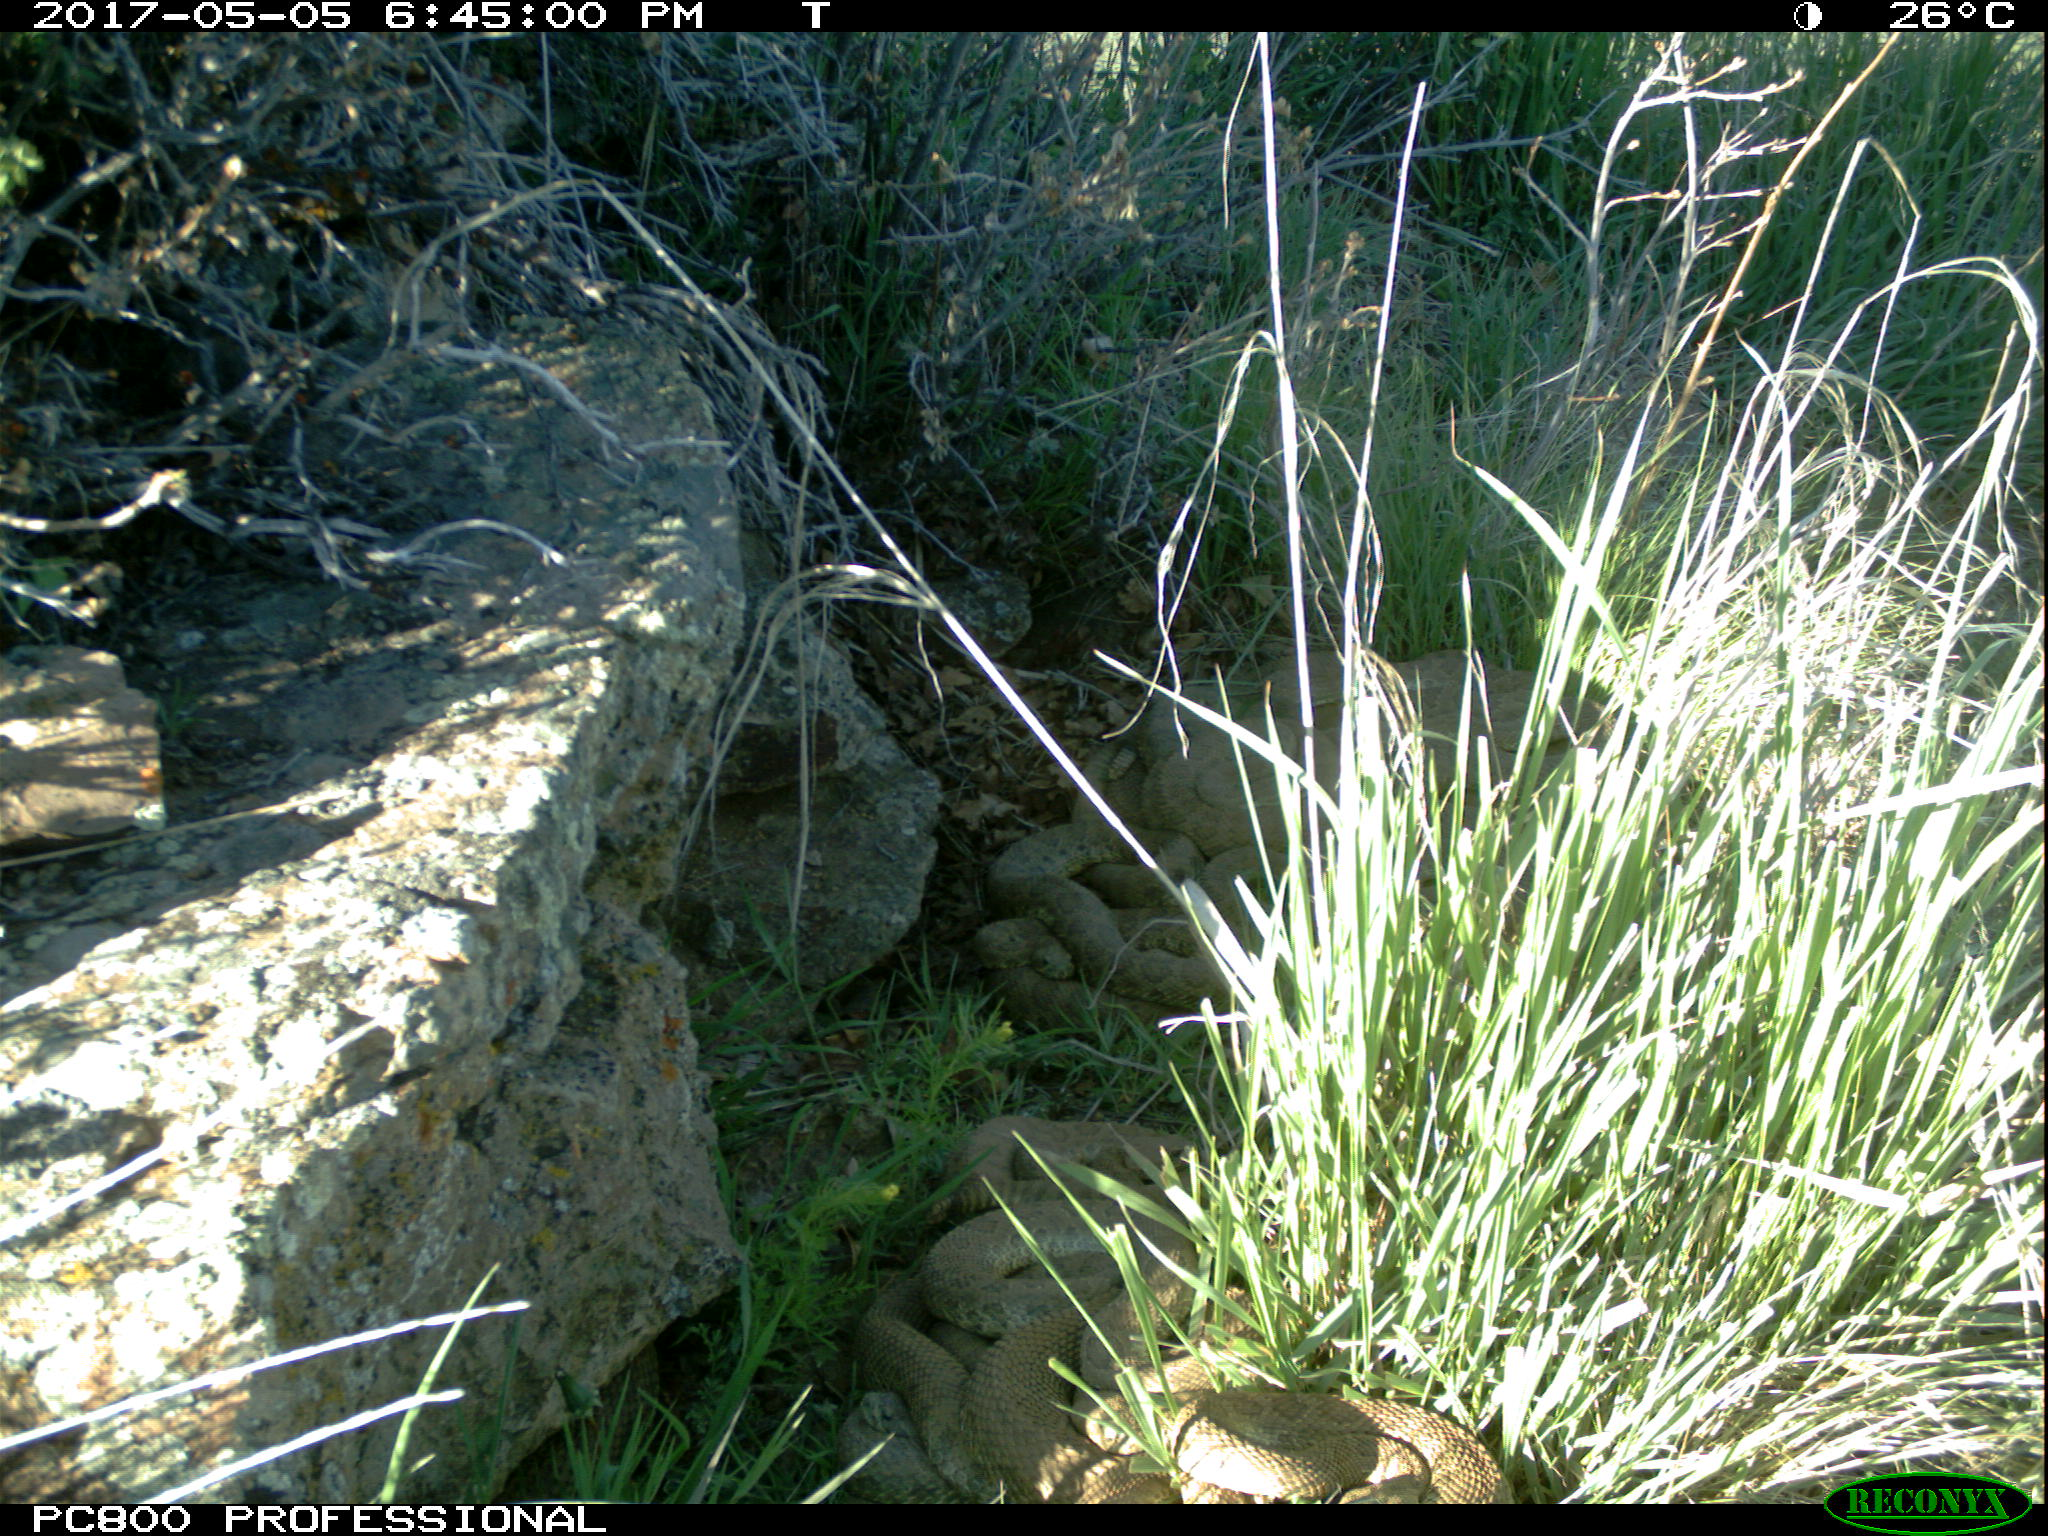snake: (856, 1215, 1172, 1505), (1113, 657, 1608, 828), (985, 802, 1235, 1036), (1092, 1375, 1517, 1509), (974, 1117, 1203, 1321)
